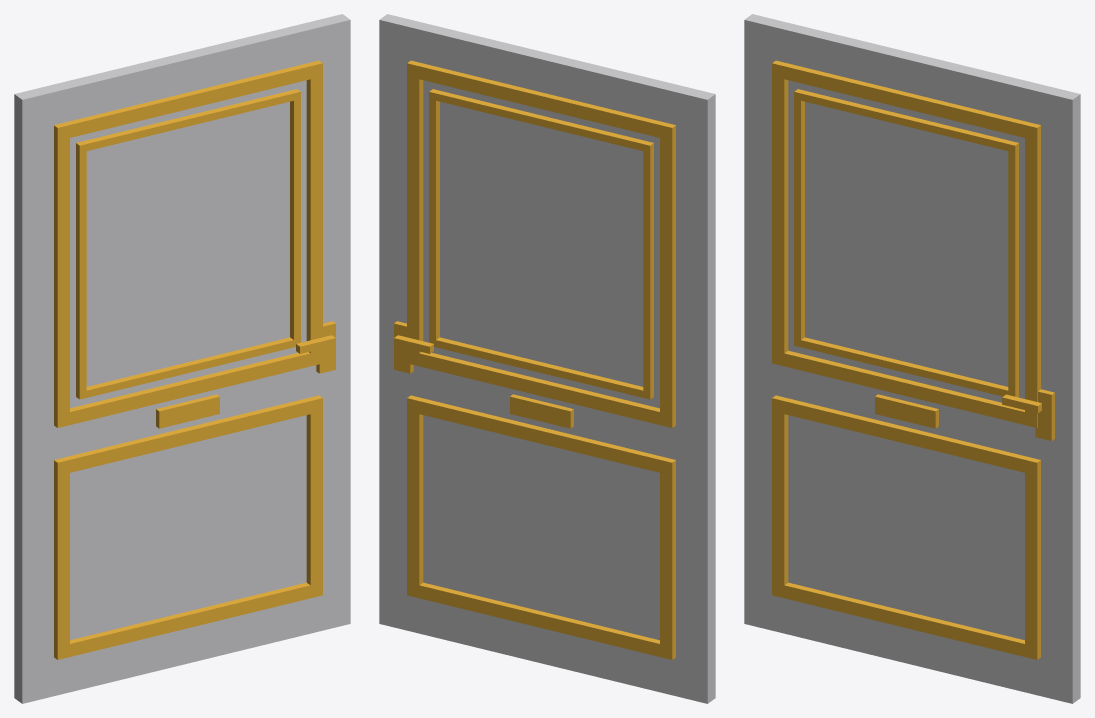
Rendered from SM_Door_obelisk_inner_120x210.fbx.
The picture shows the model from 3 angles, left to right: view 1: azimuth 30°, elevation 25°; view 2: azimuth 150°, elevation 25°; view 3: azimuth 330°, elevation 25°; orthographic projection.
Visible parts, largest first — view 1: SM_Door_obelisk_inner_120x210; view 2: SM_Door_obelisk_inner_120x210; view 3: SM_Door_obelisk_inner_120x210.
Boxes of the visible parts, x1,y1,x2,y2 form: SM_Door_obelisk_inner_120x210: [14, 14, 350, 703]; SM_Door_obelisk_inner_120x210: [379, 14, 715, 703]; SM_Door_obelisk_inner_120x210: [744, 14, 1080, 703].
Size of the model in its own units: 1.19 by 2.09 by 0.175.
